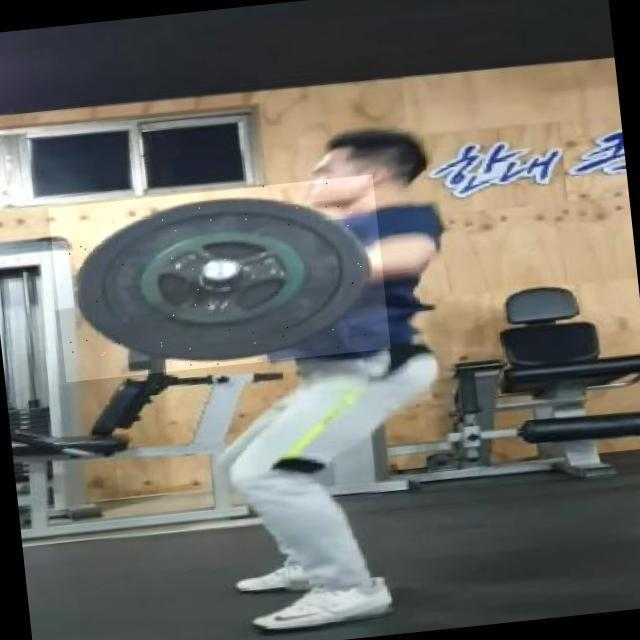barbell: (49, 175, 392, 383)
